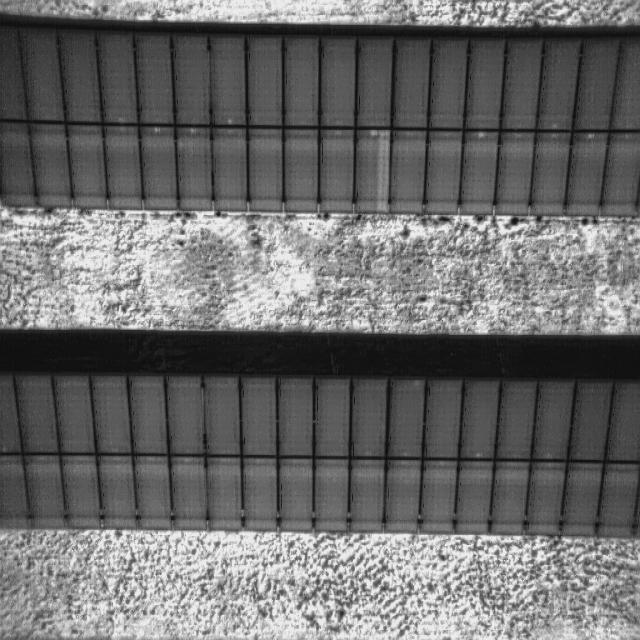diode: (354, 130, 388, 213)
